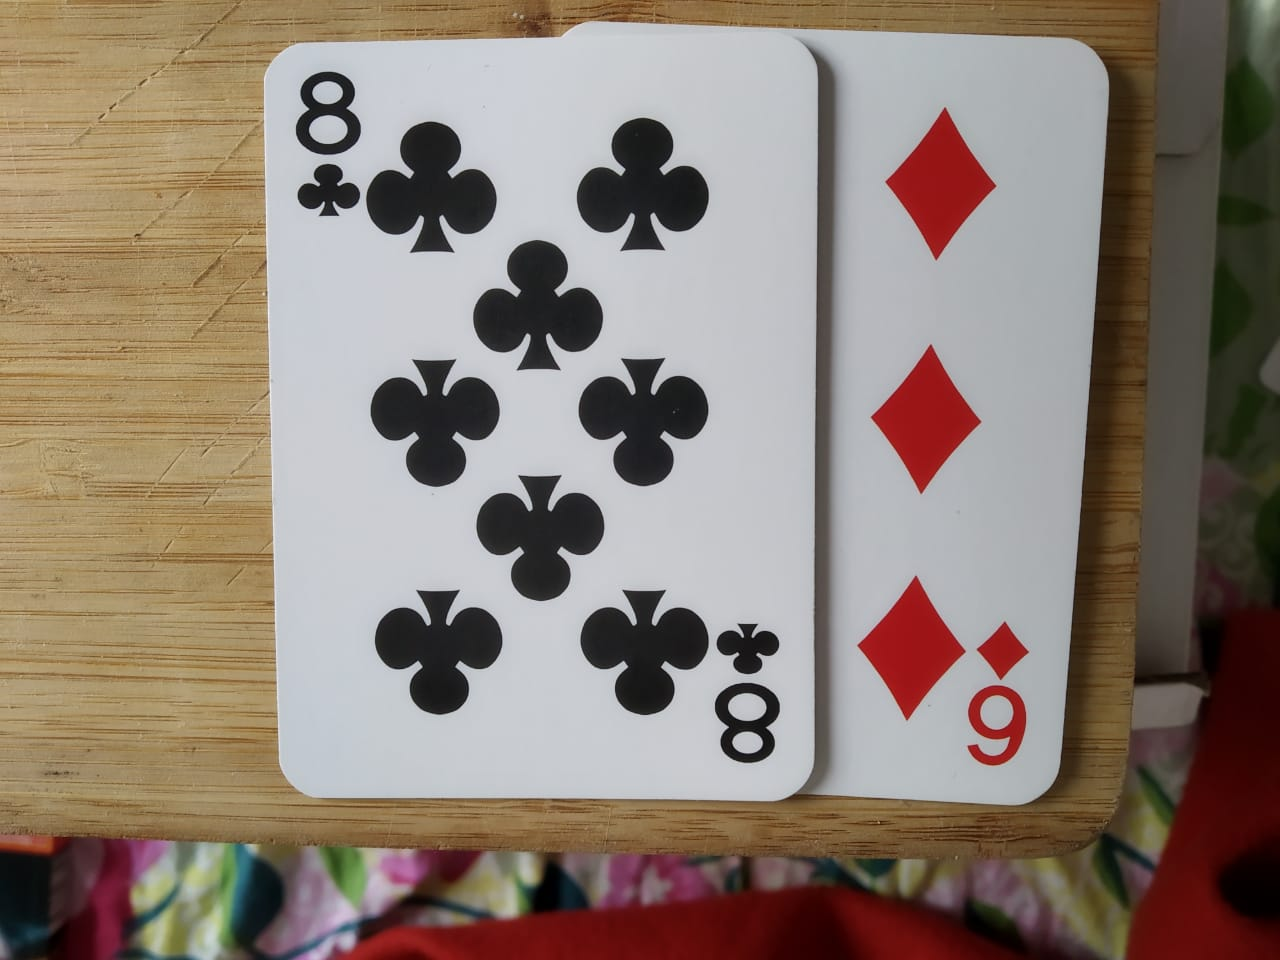eight: (241, 25, 833, 812)
